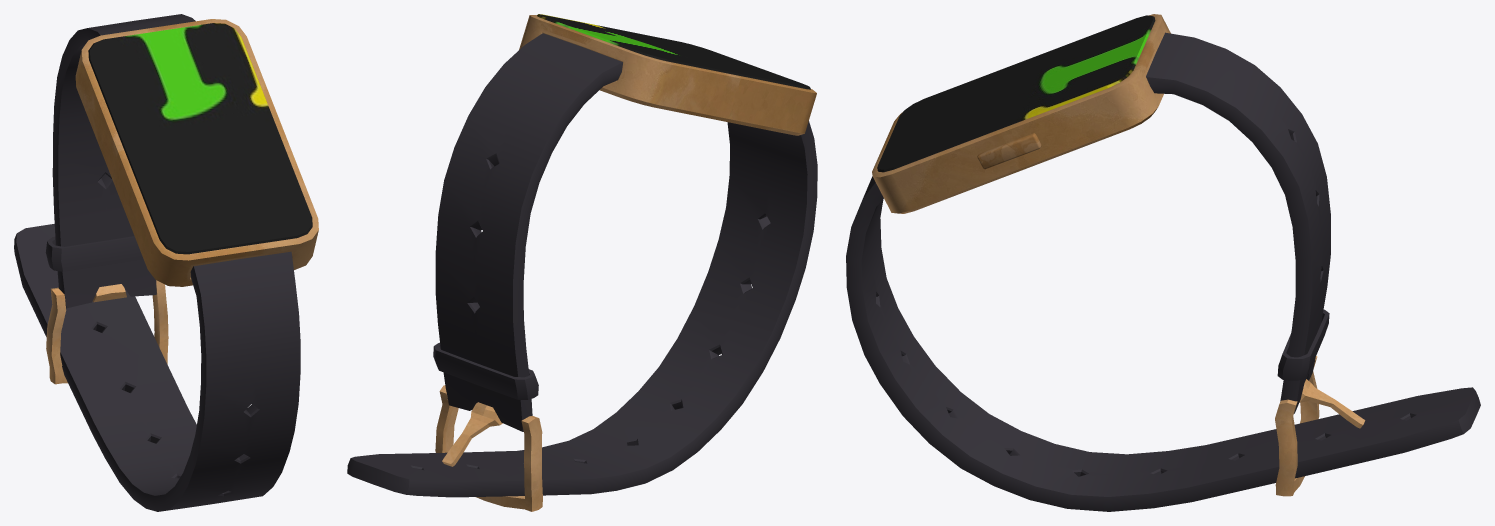
The model's file is smart_watch_low_poly.fbx.
3 views of the same model, side by side, from view 1: azimuth 30°, elevation 25°; view 2: azimuth 150°, elevation 25°; view 3: azimuth 270°, elevation 25° (orthographic). The views are drawn at different scales.
Visible parts, largest first — view 1: band_4, screen_1, main_0, end band_3; view 2: band_4, main_0, end band_3, screen_1; view 3: band_4, screen_1, main_0, end band_3, button_2.
Part boxes in pixels (<box>): band_4: <box>14,14,300,511</box>; screen_1: <box>88,23,312,254</box>; main_0: <box>75,19,318,286</box>; end band_3: <box>46,280,168,384</box>; band_4: <box>347,33,817,497</box>; main_0: <box>519,15,816,135</box>; end band_3: <box>435,385,542,511</box>; screen_1: <box>537,14,810,89</box>; band_4: <box>846,32,1480,511</box>; screen_1: <box>877,15,1155,172</box>; main_0: <box>872,14,1170,213</box>; end band_3: <box>1275,356,1365,496</box>; button_2: <box>977,133,1041,169</box>.
Bounding box in the file's own units: 0.0814 × 0.1717 × 0.2202.
5 materials, 5 textured.
